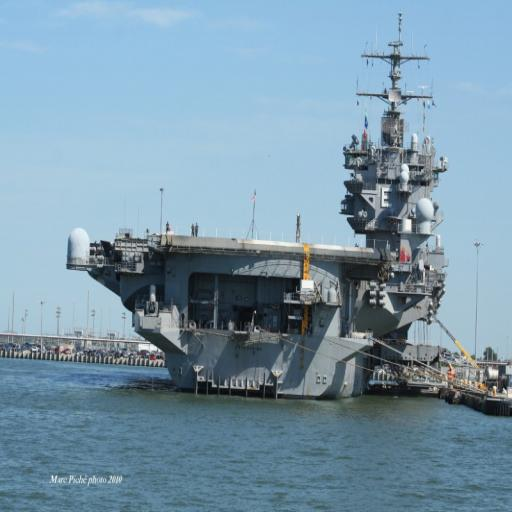Portanaves: (67, 7, 456, 402)
